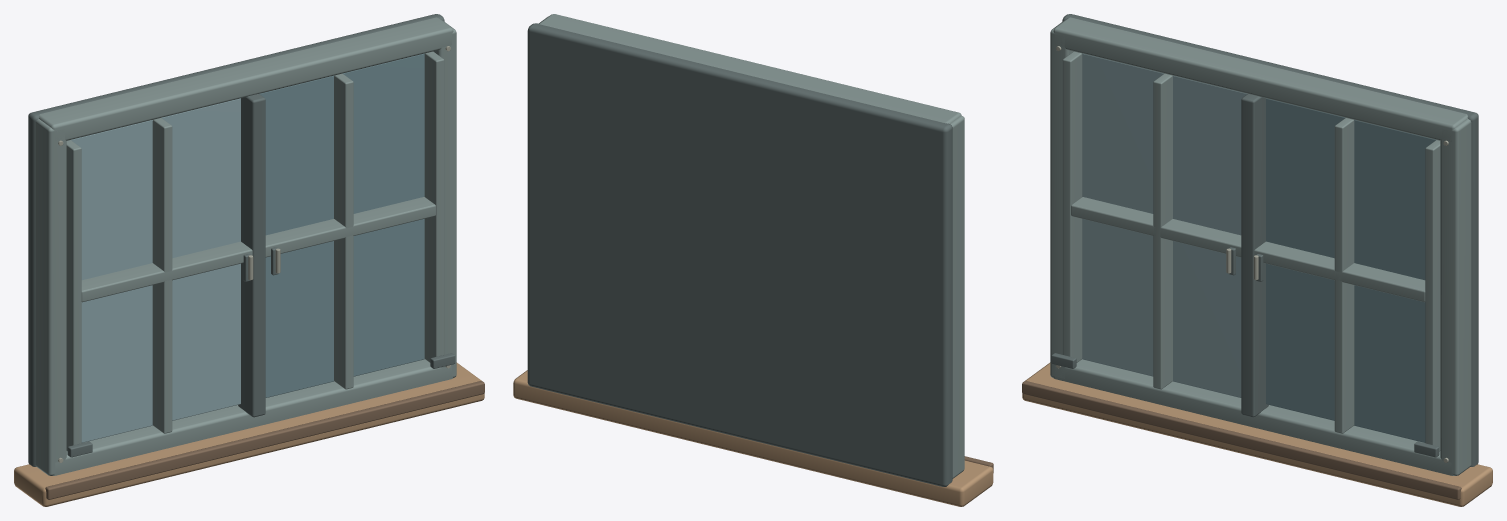
File: classroom_window_module.glb
3 renders of one model, left to right at view 1: azimuth 30°, elevation 25°; view 2: azimuth 150°, elevation 25°; view 3: azimuth 330°, elevation 25°, orthographic. The views are drawn at different scales.
Parts seen in each view (by area): view 1: Window_glass_left, Window_glass_right, Window_outer_rail.001, Window_outer_jamb, Window_outer_rail, Window_sill, Window_centre_mullion, Window_sill_front_lip, Window_inner_vertical_rail.001, Window_inner_vertical_rail.003, Window_inner_vertical_rail.002, Window_inner_vertical_rail (+4 smaller); view 2: Window_frame_back, Window_sill, Window_outer_rail.001, Window_outer_jamb; view 3: Window_glass_right, Window_glass_left, Window_outer_rail.001, Window_outer_jamb.001, Window_outer_rail, Window_sill, Window_centre_mullion, Window_sill_front_lip, Window_inner_vertical_rail.002, Window_inner_vertical_rail, Window_inner_vertical_rail.001, Window_inner_vertical_rail.003 (+4 smaller).
Part boxes in pixels (x1=…): Window_glass_left: x1=71, y1=98, x2=240, y2=442; Window_glass_right: x1=259, y1=53, x2=424, y2=397; Window_outer_rail.001: x1=39, y1=17, x2=453, y2=140; Window_outer_jamb: x1=35, y1=119, x2=66, y2=475; Window_outer_rail: x1=52, y1=359, x2=453, y2=475; Window_sill: x1=14, y1=362, x2=484, y2=506; Window_centre_mullion: x1=238, y1=94, x2=265, y2=417; Window_sill_front_lip: x1=45, y1=381, x2=484, y2=499; Window_inner_vertical_rail.001: x1=152, y1=118, x2=172, y2=433; Window_inner_vertical_rail.003: x1=424, y1=51, x2=444, y2=362; Window_inner_vertical_rail.002: x1=334, y1=73, x2=353, y2=389; Window_inner_vertical_rail: x1=66, y1=140, x2=81, y2=451; Window_frame_back: x1=527, y1=23, x2=952, y2=486; Window_sill: x1=513, y1=370, x2=993, y2=506; Window_outer_rail.001: x1=539, y1=14, x2=961, y2=123; Window_outer_jamb: x1=950, y1=116, x2=964, y2=478; Window_glass_right: x1=1266, y1=98, x2=1435, y2=442; Window_glass_left: x1=1082, y1=53, x2=1247, y2=397; Window_outer_rail.001: x1=1053, y1=17, x2=1467, y2=141; Window_outer_jamb.001: x1=1440, y1=119, x2=1471, y2=475; Window_outer_rail: x1=1053, y1=359, x2=1454, y2=475; Window_sill: x1=1022, y1=362, x2=1492, y2=506; Window_centre_mullion: x1=1241, y1=94, x2=1268, y2=417; Window_sill_front_lip: x1=1022, y1=381, x2=1461, y2=499; Window_inner_vertical_rail.002: x1=1334, y1=118, x2=1354, y2=433; Window_inner_vertical_rail: x1=1062, y1=51, x2=1082, y2=362; Window_inner_vertical_rail.001: x1=1153, y1=73, x2=1172, y2=389; Window_inner_vertical_rail.003: x1=1425, y1=140, x2=1440, y2=451.
Size of the model in its own units: 1.78 by 1.42 by 0.24.
